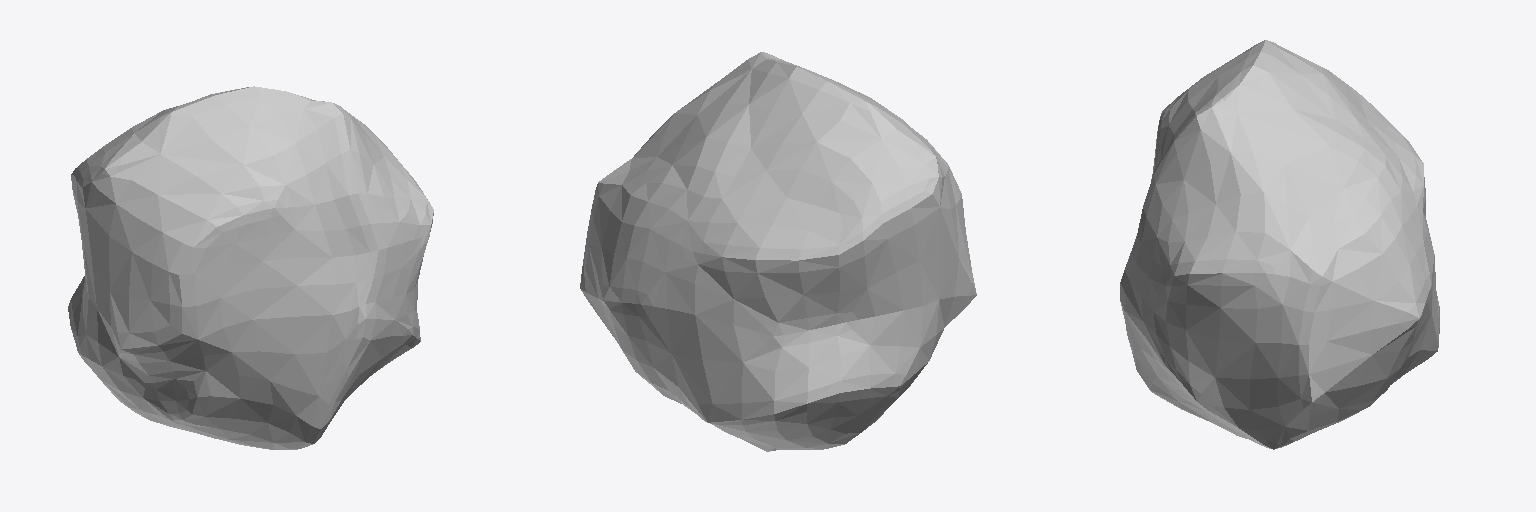
Rendered from Asteroid_Small_1.obj.
The picture shows the model from 3 angles: view 1: azimuth 30°, elevation 25°; view 2: azimuth 150°, elevation 25°; view 3: azimuth 270°, elevation 25°; orthographic projection.
Visible parts, largest first — view 1: Aster_Small_4__Cube.014; view 2: Aster_Small_4__Cube.014; view 3: Aster_Small_4__Cube.014.
Part boxes in pixels (left/top/right/bottom): Aster_Small_4__Cube.014: left=68, top=86, right=433, bottom=449; Aster_Small_4__Cube.014: left=580, top=52, right=976, bottom=451; Aster_Small_4__Cube.014: left=1120, top=40, right=1439, bottom=449.
Bounding box in the file's own units: 1.24 × 1.26 × 1.